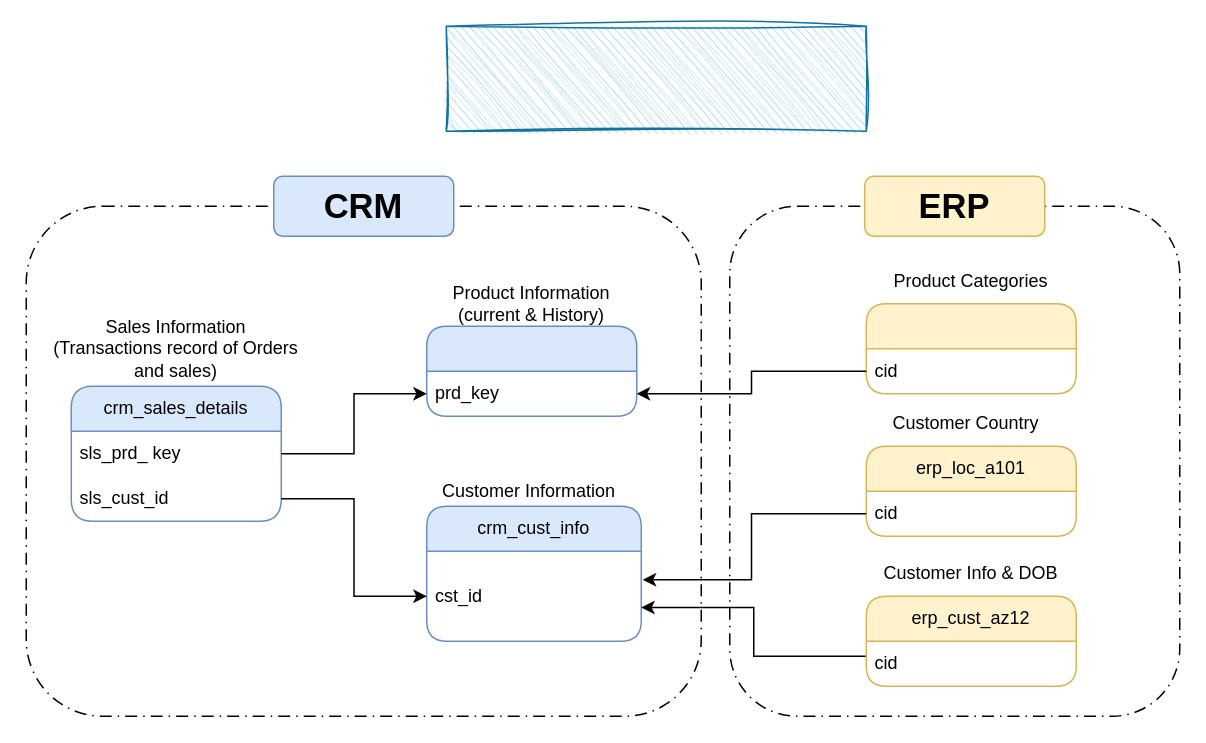
This 1206x743 diagram has some shape labels left out. The box of each missing label's shape, as (x1, y1, x2, y2) in pixels:
crm_prd_info: (425, 325, 637, 416)
Data Integration Model (how the tables are related): (445, 25, 866, 131)
erp_px_cat_g1v2: (865, 302, 1076, 394)
